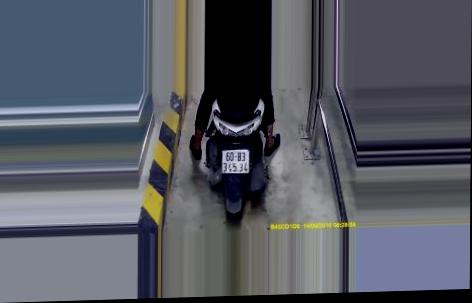License_Plate: (216, 145, 254, 177)
